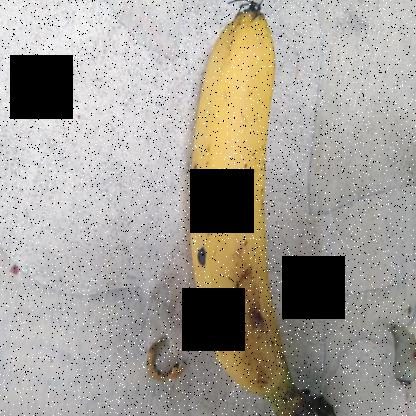ripe: (181, 1, 312, 398)
